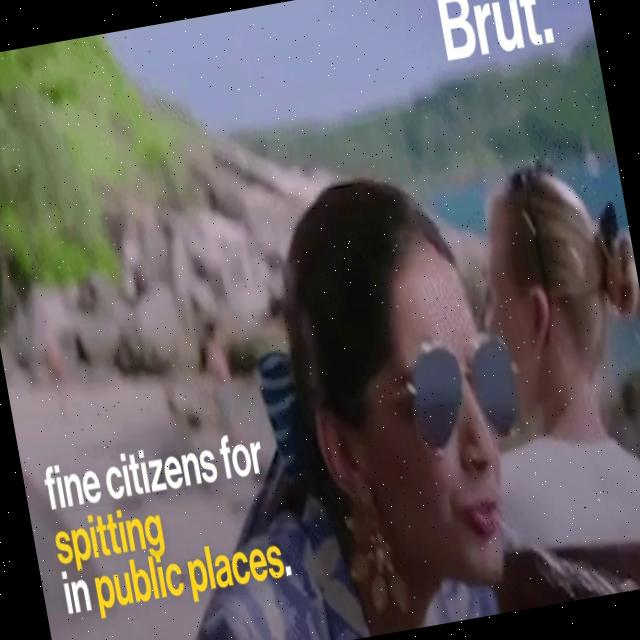spit: (313, 276, 640, 602)
